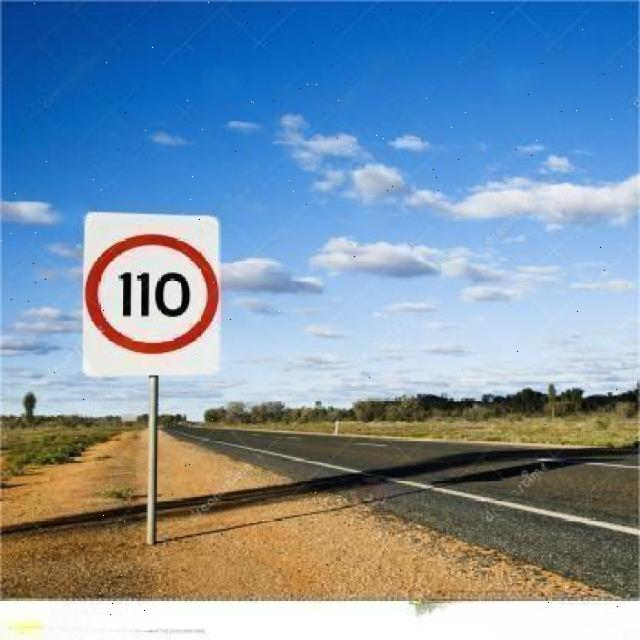speed limit 110: (83, 234, 219, 356)
